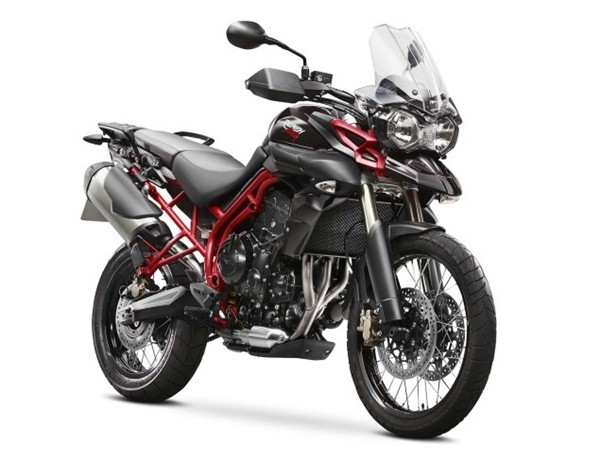motorcycle: (78, 64, 498, 438)
